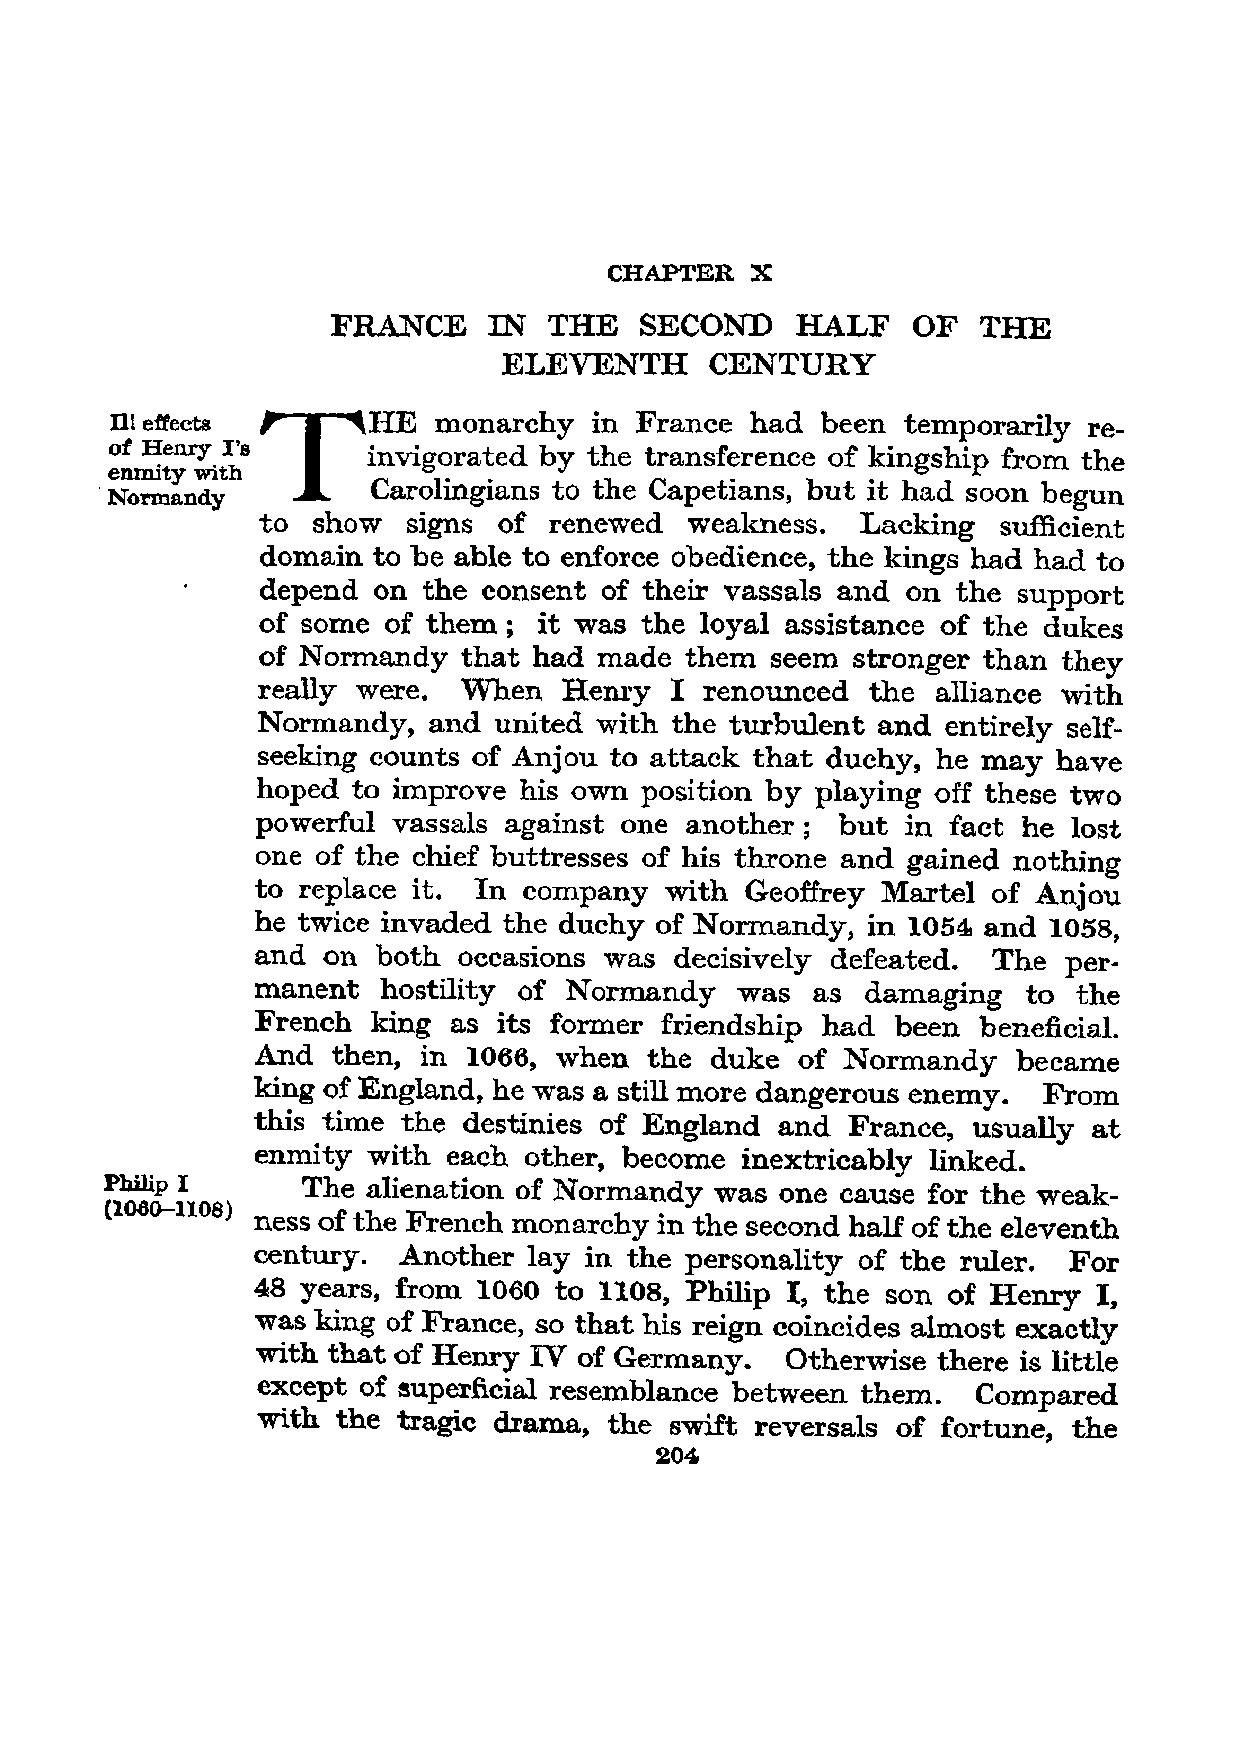chapter: (323, 246, 1057, 373)
content: (240, 386, 1127, 1443)
content_pagenumber: (648, 1449, 705, 1465)
